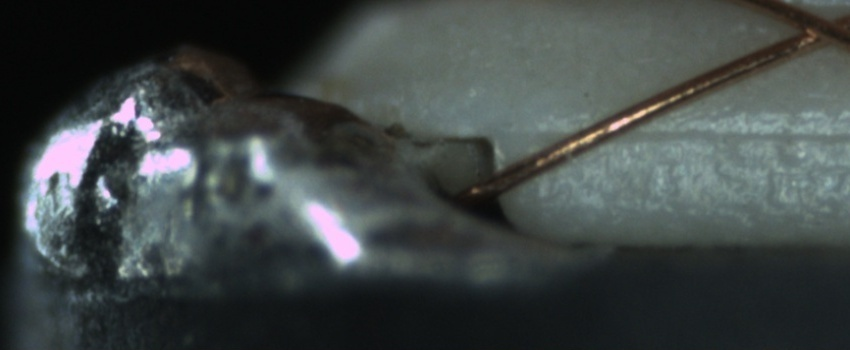CL: (776, 4, 848, 55)
DL: (529, 101, 848, 163)
